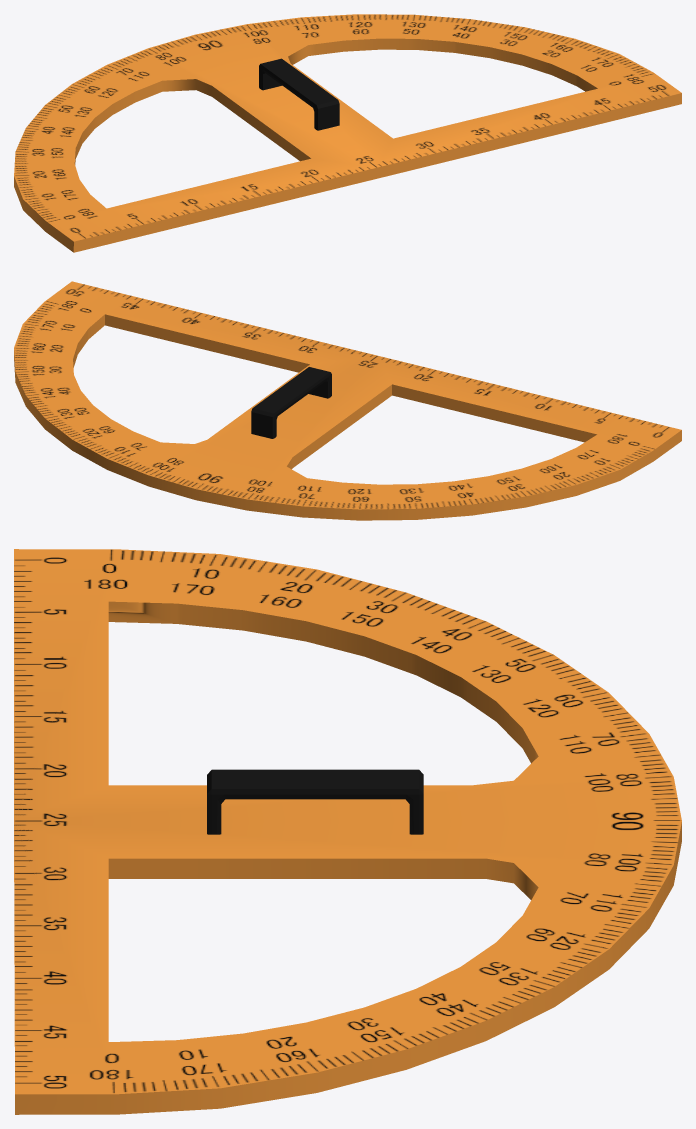
Rendered from Protractor.obj.
3 renders of one model, top to bottom at view 1: azimuth 30°, elevation 25°; view 2: azimuth 150°, elevation 25°; view 3: azimuth 270°, elevation 25°, orthographic. The views are drawn at different scales.
Visible parts, largest first — view 1: Protractor.001_Protractor.001_lambert4SG.001, Protractor.001_Protractor.001_pasted__lambert5SG.004; view 2: Protractor.001_Protractor.001_lambert4SG.001, Protractor.001_Protractor.001_pasted__lambert5SG.004; view 3: Protractor.001_Protractor.001_lambert4SG.001, Protractor.001_Protractor.001_pasted__lambert5SG.004.
Boxes of the visible parts, box(x1,y1,x2,y2) form: Protractor.001_Protractor.001_lambert4SG.001: box(14, 14, 681, 252); Protractor.001_Protractor.001_pasted__lambert5SG.004: box(259, 58, 339, 130); Protractor.001_Protractor.001_lambert4SG.001: box(14, 281, 681, 520); Protractor.001_Protractor.001_pasted__lambert5SG.004: box(251, 367, 331, 438); Protractor.001_Protractor.001_lambert4SG.001: box(14, 549, 681, 1114); Protractor.001_Protractor.001_pasted__lambert5SG.004: box(207, 769, 423, 834).
Size of the model in its own units: 1.4 by 0.0785 by 0.7236.
